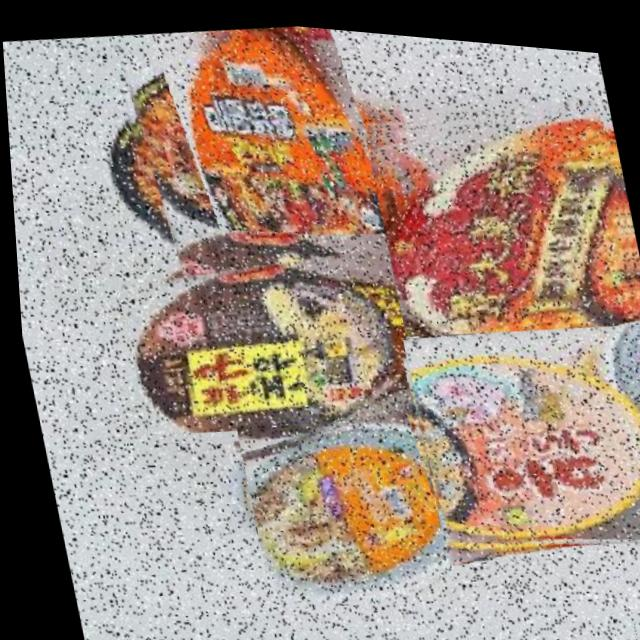Miscellaneous: (108, 8, 436, 322), (356, 70, 640, 369), (107, 214, 450, 455), (225, 368, 528, 623), (395, 294, 640, 566)
